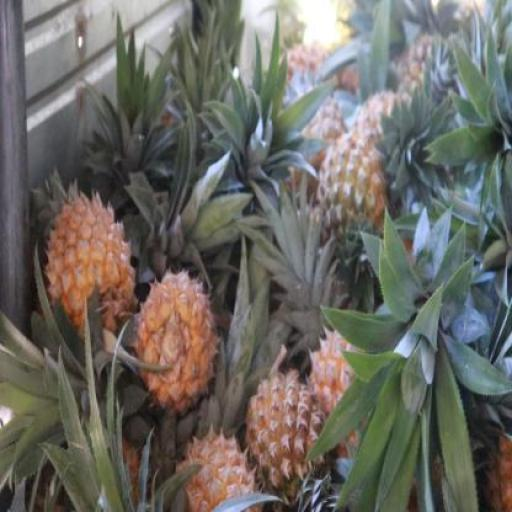Pineapple - v8 v1: (46, 193, 137, 339), (246, 365, 324, 511), (136, 268, 214, 402), (173, 423, 254, 512)
